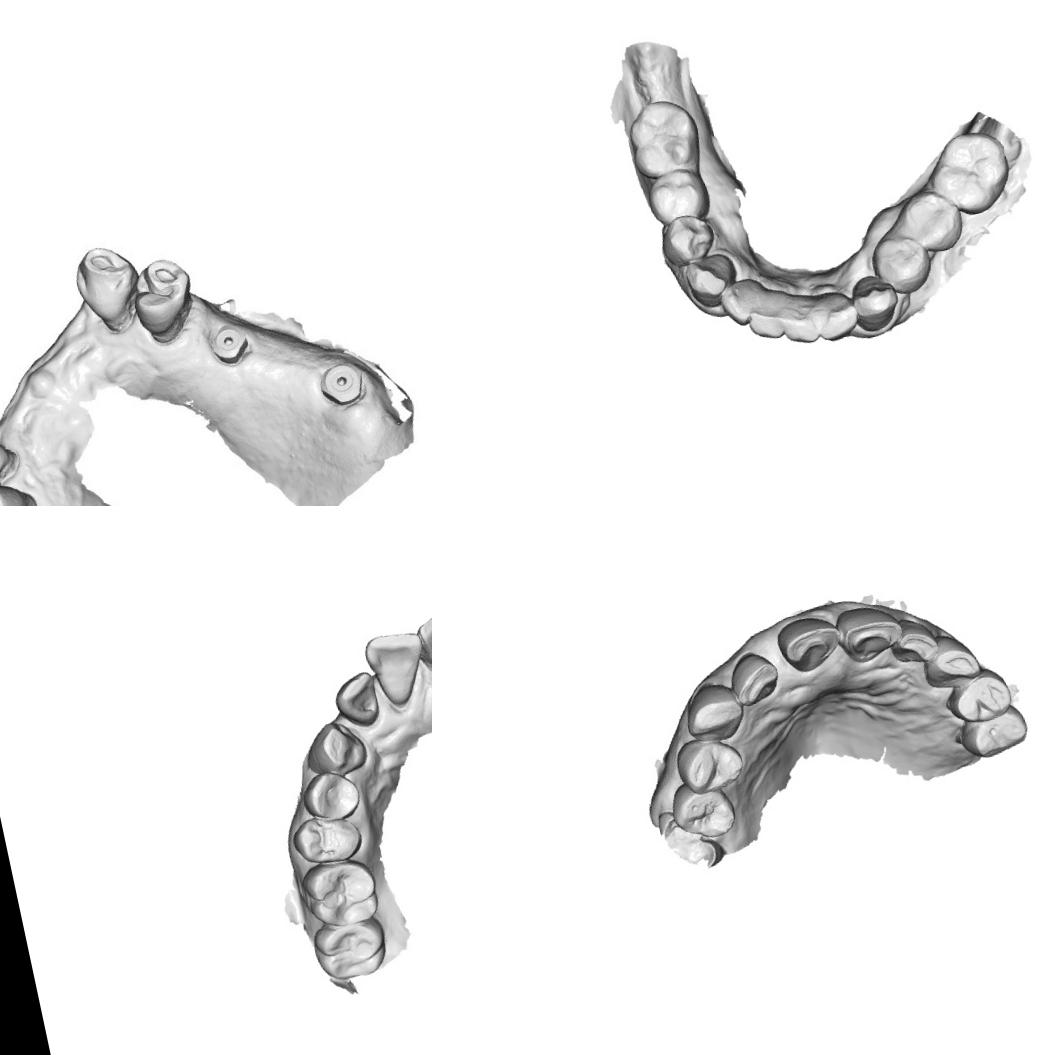canine: (71, 242, 145, 333), (678, 676, 749, 750), (298, 714, 372, 784), (916, 629, 982, 693), (677, 250, 740, 314), (846, 268, 903, 336)
implant: (315, 356, 370, 414), (205, 318, 258, 372)
incisor: (361, 626, 432, 713), (834, 596, 907, 668), (772, 610, 847, 678), (725, 647, 784, 710), (328, 668, 384, 734), (806, 283, 862, 346), (738, 285, 790, 346), (714, 274, 770, 330), (774, 288, 823, 350), (888, 612, 942, 668), (411, 600, 432, 690)
molar: (921, 122, 1018, 224), (620, 93, 706, 182), (298, 853, 384, 934), (310, 912, 392, 986), (894, 182, 970, 260), (641, 163, 710, 227)
premolar: (670, 730, 751, 800), (666, 774, 740, 846), (867, 228, 937, 300), (955, 699, 1034, 761), (288, 808, 366, 870), (939, 667, 1017, 729), (133, 257, 198, 331), (654, 208, 721, 272), (297, 764, 365, 827)
